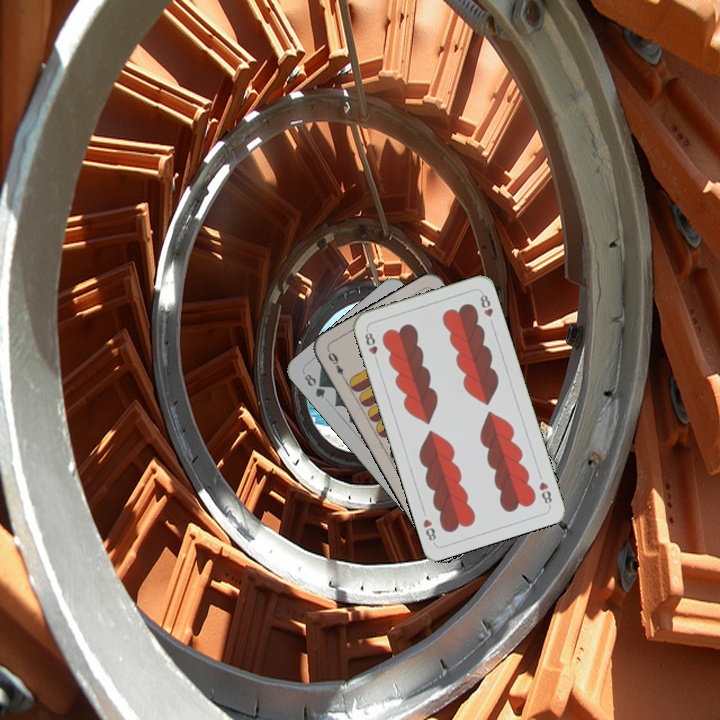E9: (324, 348, 349, 384)
G8: (300, 369, 328, 401)
H8: (361, 326, 381, 365), (535, 477, 555, 509)
